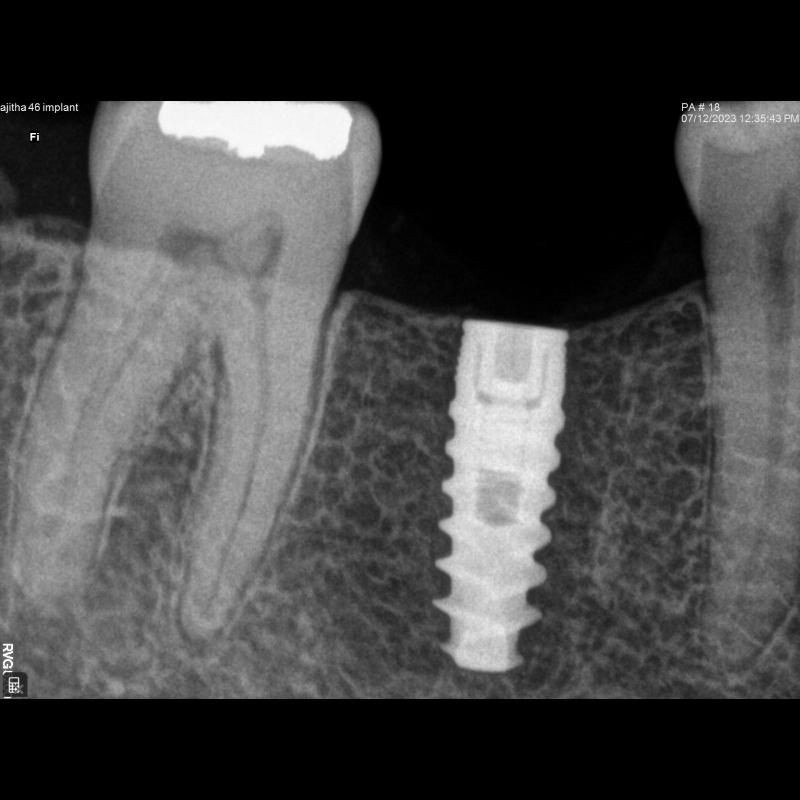NORIS: (432, 303, 570, 673)
